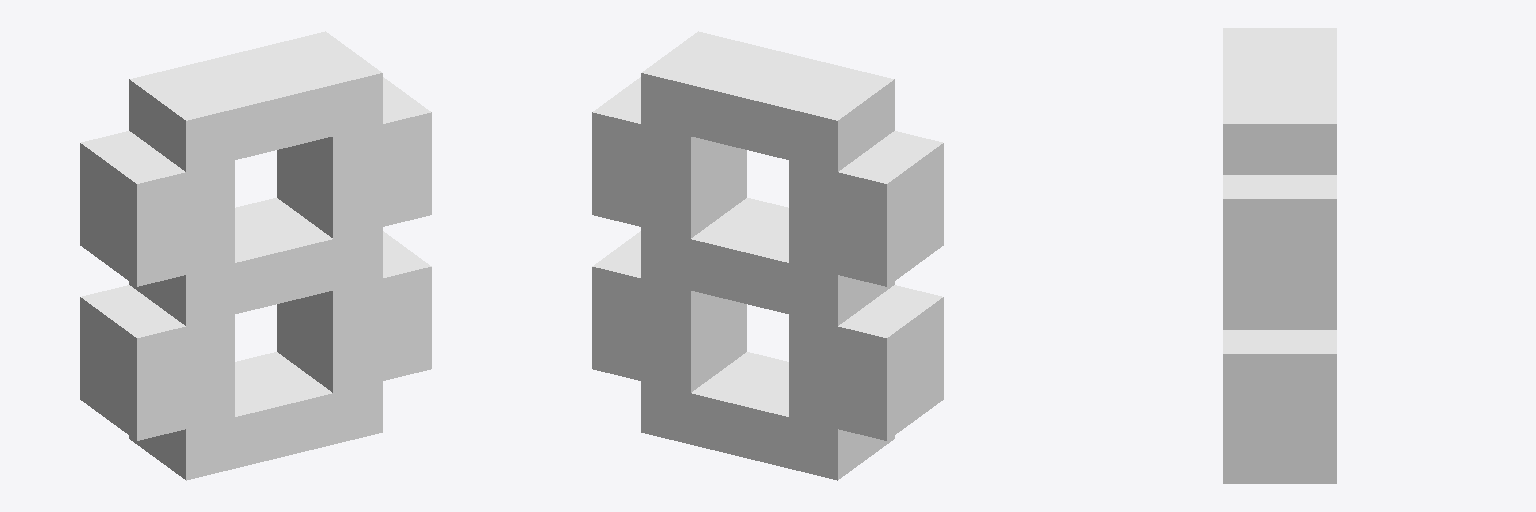
The model's file is Number8.obj.
3 renders of one model, left to right at view 1: azimuth 30°, elevation 25°; view 2: azimuth 150°, elevation 25°; view 3: azimuth 270°, elevation 25°, orthographic.
Visible parts, largest first — view 1: object 1; view 2: object 1; view 3: object 1.
Part boxes in pixels (bbox=[...]): object 1: bbox=[80, 31, 431, 480]; object 1: bbox=[592, 31, 943, 480]; object 1: bbox=[1223, 28, 1336, 483].
Bounding box in the file's own units: 0.6 × 0.7 × 0.2.